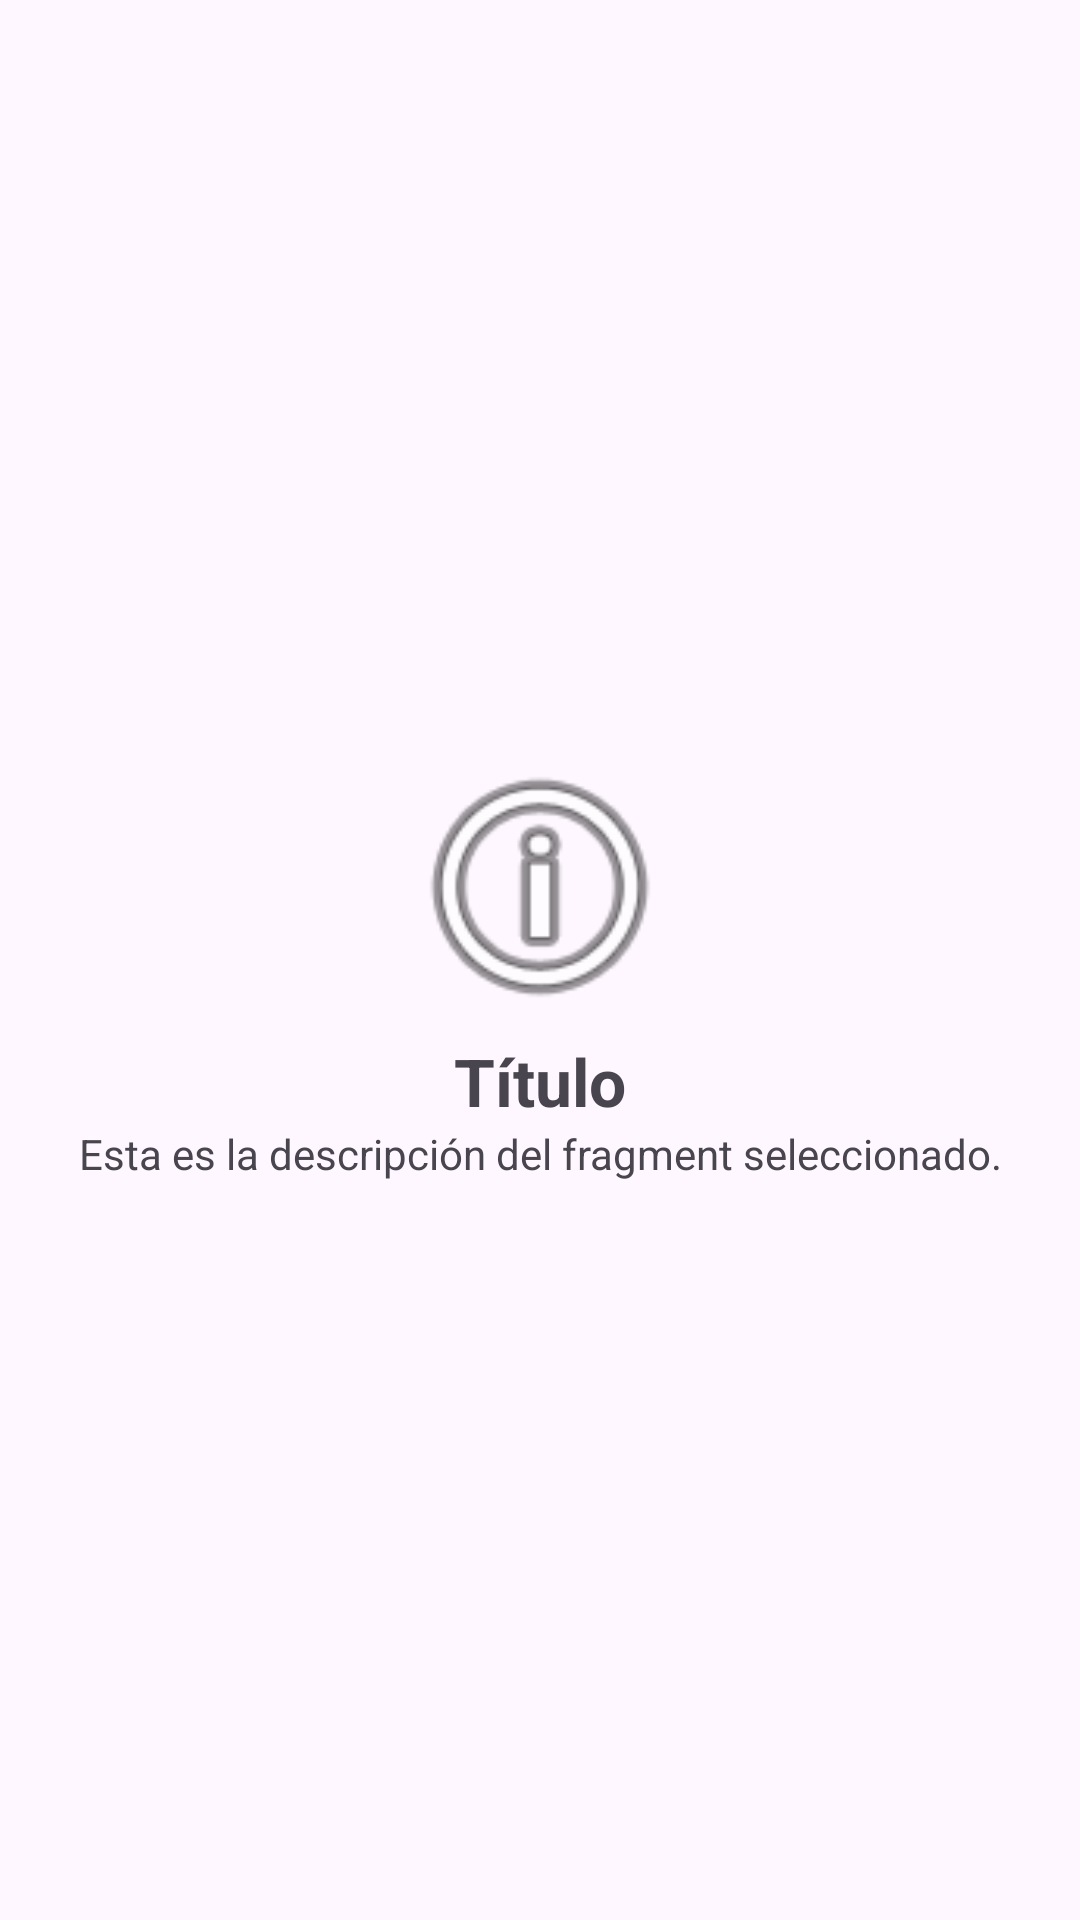

Named icons in this screenshot (1080px x 1920px) and their bounding boxes, (x1, y1, x2, y2):
info details: (431, 779, 649, 996)
